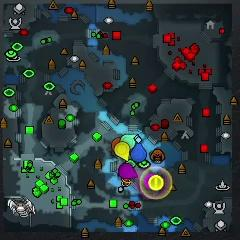Other: (149, 175, 164, 191), (145, 174, 157, 189)
p1: (131, 142, 147, 162)
p2: (120, 134, 138, 149)
p3: (118, 163, 138, 179)
p4: (114, 142, 130, 161)
p5: (112, 137, 121, 151)
